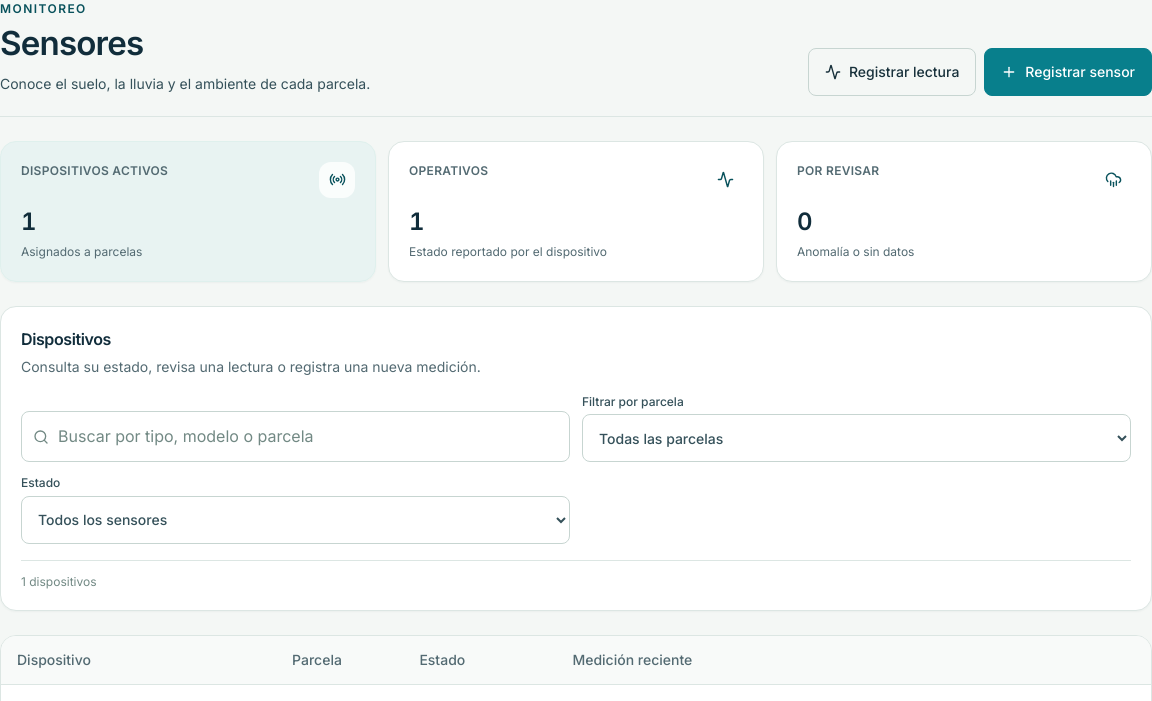
Test case: Sensores › rechaza lecturas fuera de rango sin enviar datos
The image size is (1152, 701).
Expected: the heading "Dispositivos" is shown, x1=21 y1=329 x2=111 y2=349
Click the button "Registrar lectura".
click(892, 72)  # box x1=808 y1=48 x2=976 y2=96
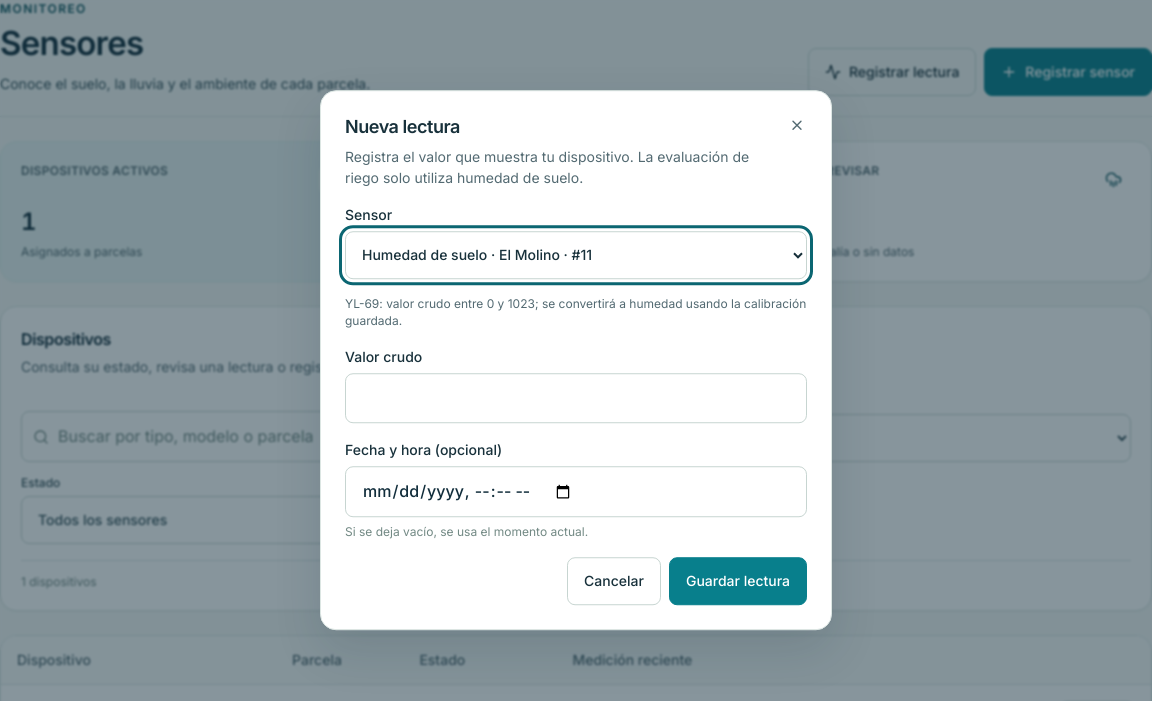
Type "2000" into the field labelled "Valor crudo".
click(576, 398); type("2000")  # box x1=345 y1=373 x2=807 y2=424
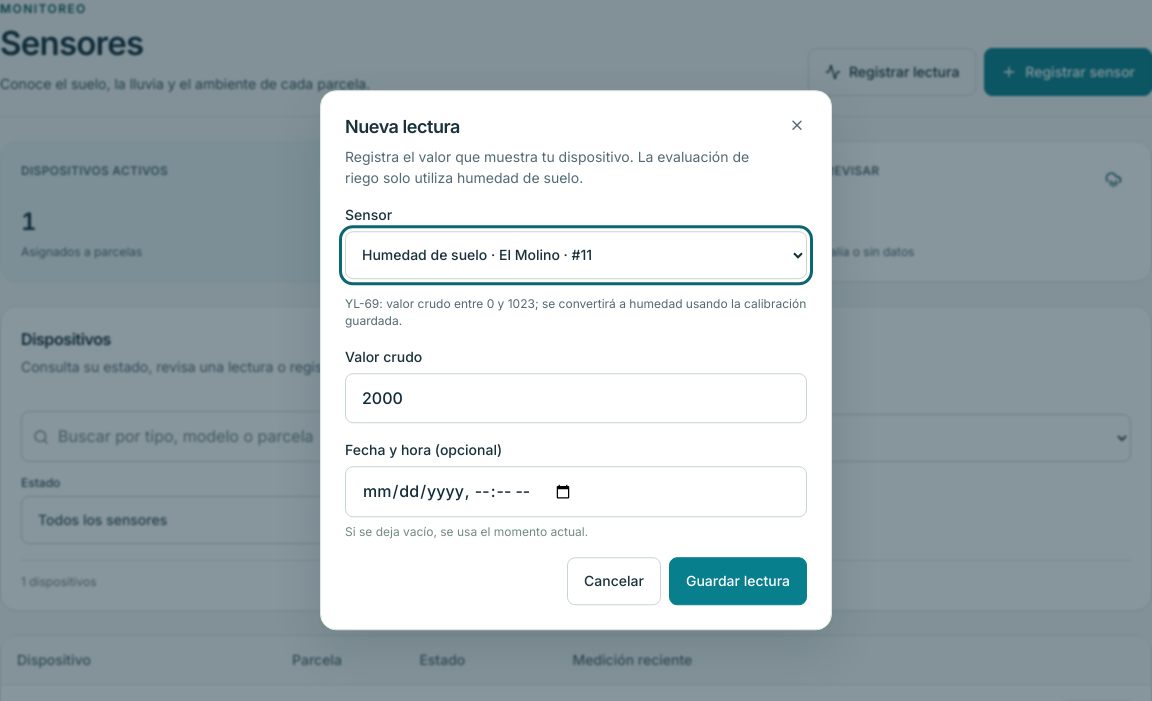
Click the button "Guardar lectura".
click(738, 581)  # box x1=669 y1=557 x2=807 y2=605
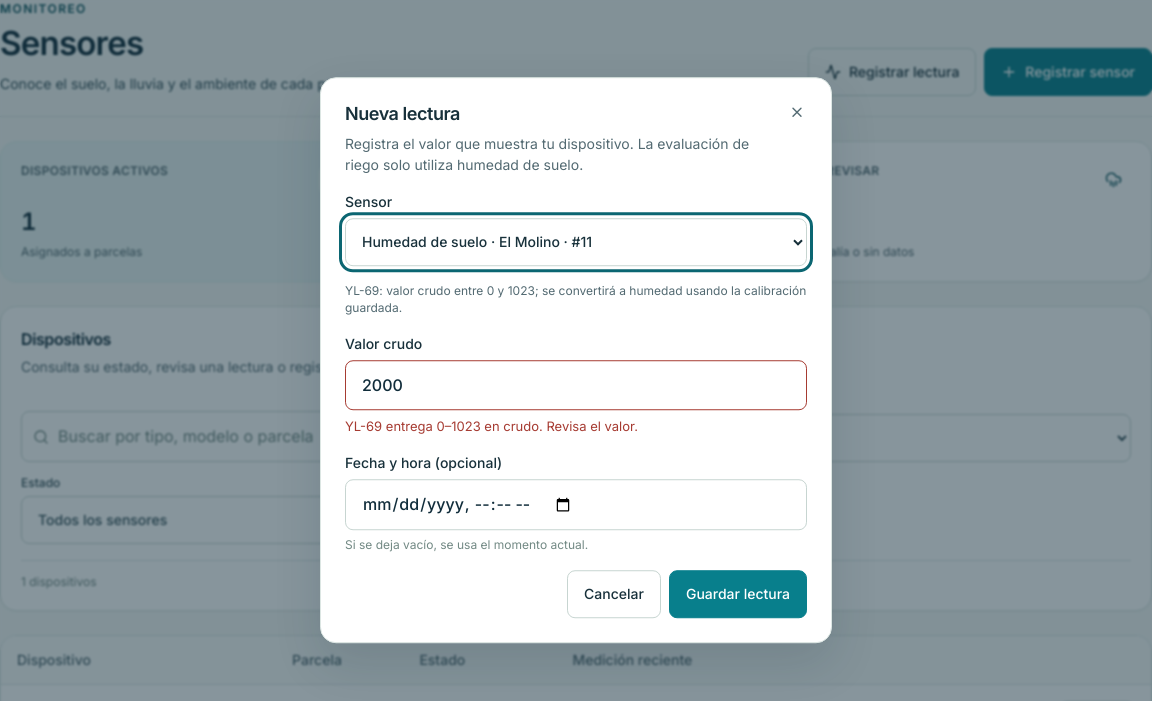
Result: the message shows "0–1023" at x1=345 y1=419 x2=638 y2=435
